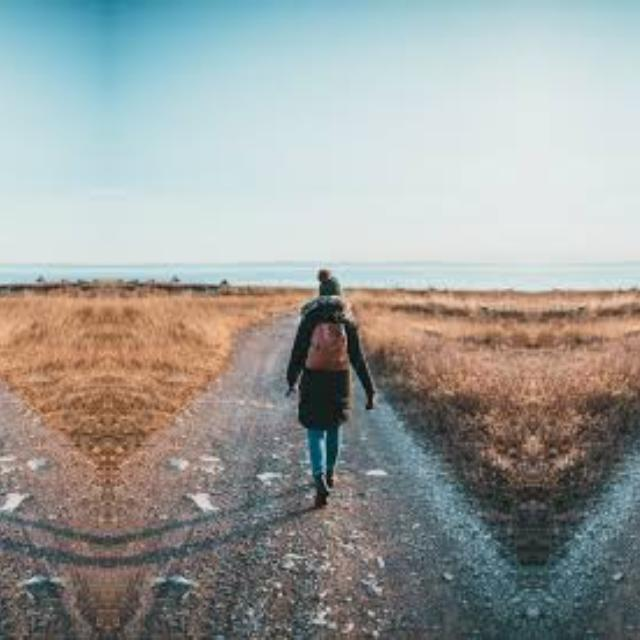person: (263, 262, 379, 504)
